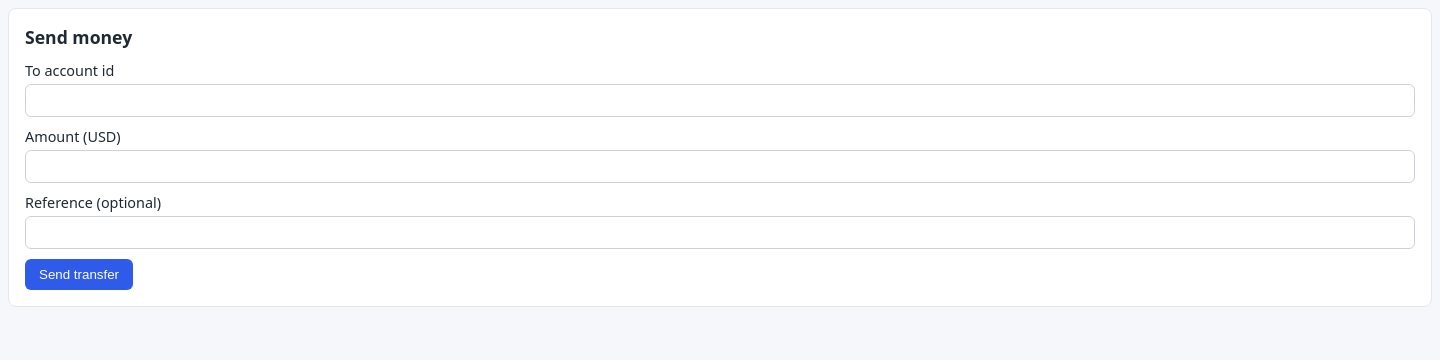
Test: TransferForm › reuses the same idempotency key when retrying after a failure
In the field labelled "To account id": [720, 100] box [25,84,1415,117], type "8b2e4d90-6f3a-4e7c-b1d2-9c0a5e3f1b02"
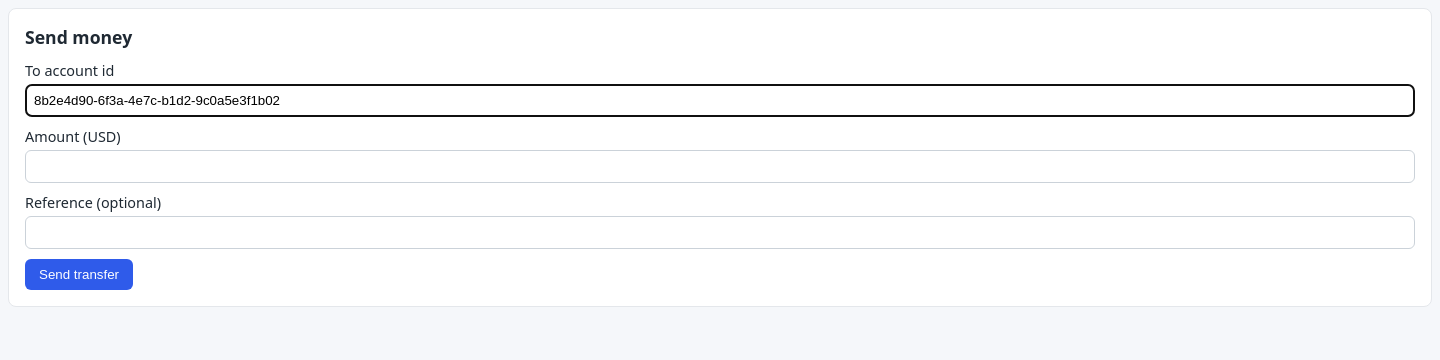
In the field labelled "Amount (USD)": [720, 166] box [25,150,1415,183], type "5"
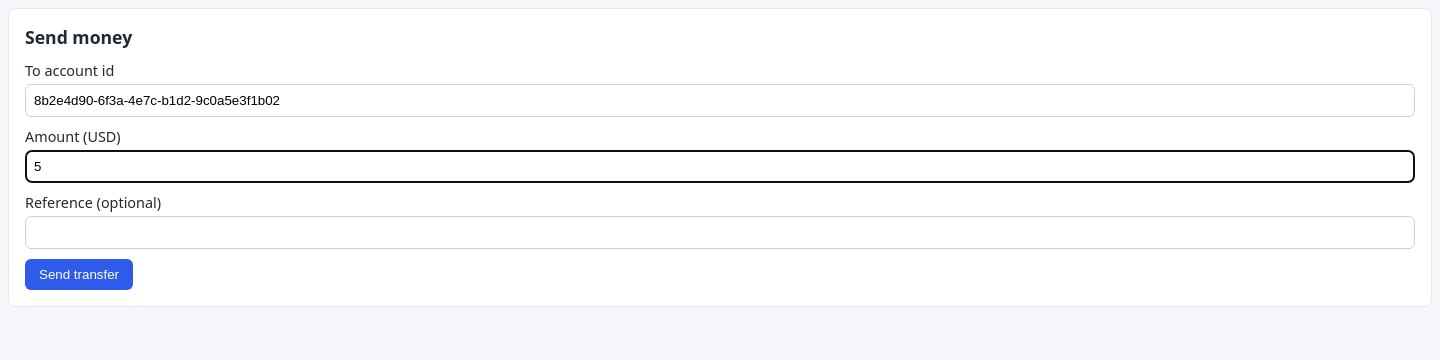
Click the button "Send transfer": [79, 274] box [25,259,133,290]
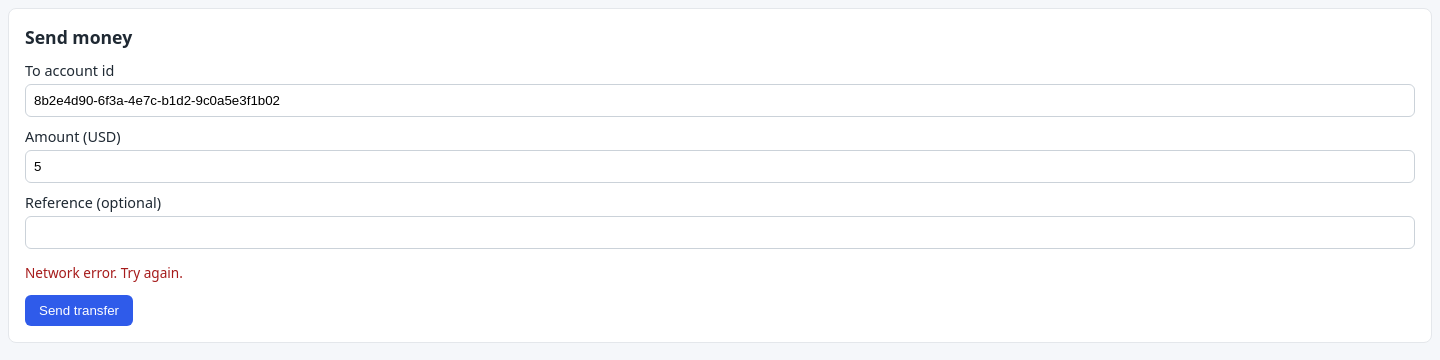
Now the text "Network error. Try again." is shown, box [25,263,183,282]
Click the button "Send transfer": [79, 311] box [25,295,133,326]
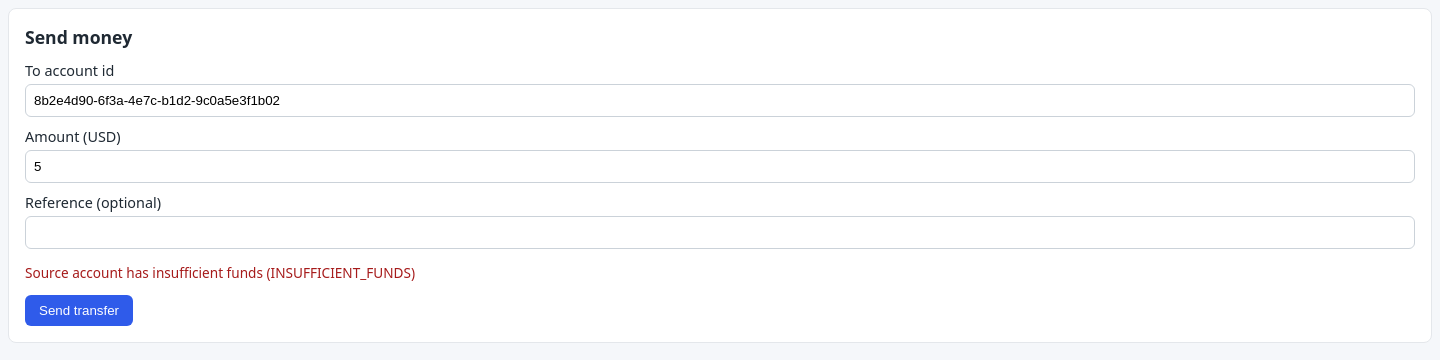
Now the text "Source account has insufficient funds (INSUFFICIENT_FUNDS)" is shown, box [25,263,415,282]
